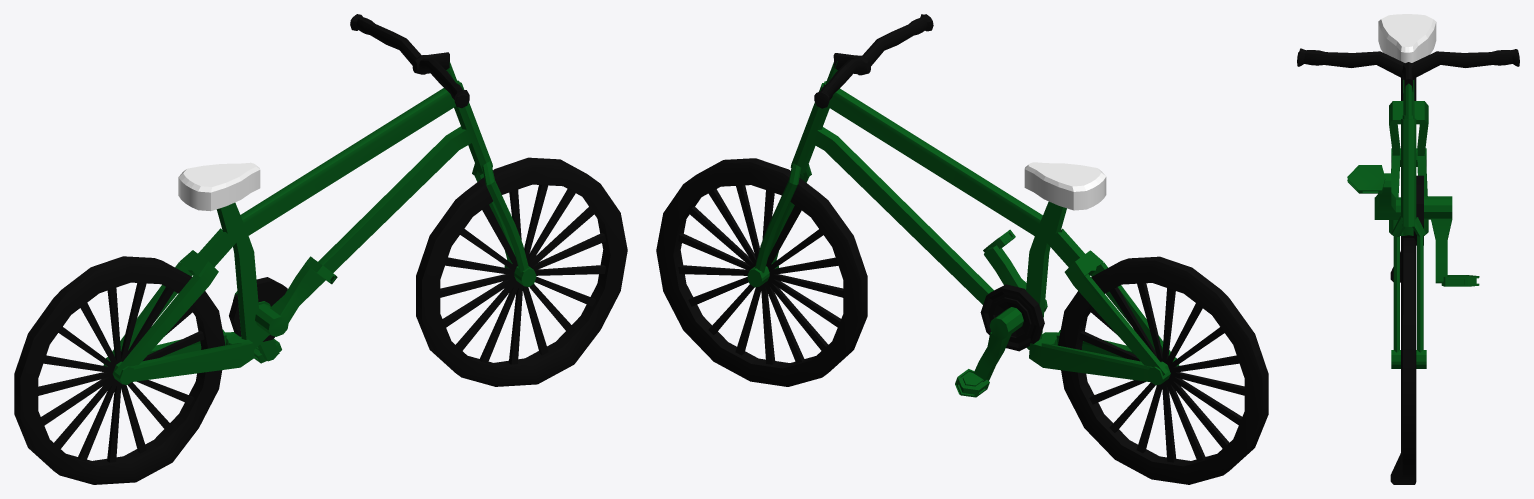
The model's file is bisiklet2.fbx.
The picture shows the model from 3 angles, left to right: view 1: azimuth 30°, elevation 25°; view 2: azimuth 150°, elevation 25°; view 3: azimuth 270°, elevation 25°; orthographic projection. The views are drawn at different scales.
Parts seen in each view (by area): view 1: wheel1, body, wheel2, chair, steeringWheel, pedal2, disc; view 2: wheel1, body, wheel2, chair, steeringWheel, disc, pedal1, pedal2; view 3: body, wheel1, steeringWheel, chair, pedal1, pedal2, disc, wheel2.
Part boxes in pixels (<box>): wheel1: <box>416,157,627,386</box>; body: <box>103,62,536,384</box>; wheel2: <box>14,256,225,484</box>; chair: <box>178,162,260,211</box>; steeringWheel: <box>350,14,469,108</box>; pedal2: <box>255,256,337,336</box>; disc: <box>229,277,287,341</box>; wheel1: <box>656,158,867,386</box>; body: <box>747,61,1179,385</box>; wheel2: <box>1058,256,1268,484</box>; chair: <box>1024,162,1106,210</box>; steeringWheel: <box>814,14,933,108</box>; disc: <box>980,284,1044,351</box>; pedal1: <box>955,307,1023,397</box>; pedal2: <box>983,229,1047,311</box>; body: <box>1389,80,1428,368</box>; wheel1: <box>1390,238,1416,484</box>; steeringWheel: <box>1297,48,1519,91</box>; chair: <box>1378,14,1436,62</box>; pedal1: <box>1424,196,1479,286</box>; pedal2: <box>1347,165,1400,219</box>; disc: <box>1413,175,1423,245</box>; wheel2: <box>1390,78,1416,282</box>.
Size of the model in its own units: 40.98 by 23.09 by 12.62.
